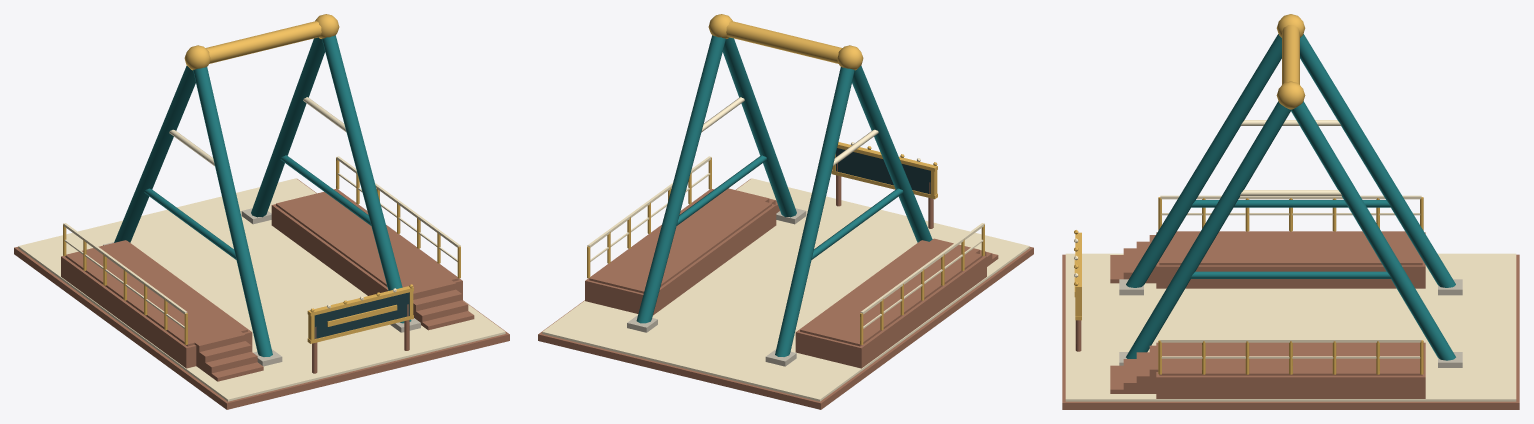
File: ride_pirate.glb
3 views of the same model, side by side, from view 1: azimuth 30°, elevation 25°; view 2: azimuth 150°, elevation 25°; view 3: azimuth 270°, elevation 25° (orthographic). The views are drawn at different scales.
Parts seen in each view (by area): view 1: ride_pirate; view 2: ride_pirate; view 3: ride_pirate.
Boxes of the visible parts, x1,y1,x2,y2 form: ride_pirate: [14, 14, 509, 409]; ride_pirate: [538, 14, 1033, 409]; ride_pirate: [1062, 14, 1519, 409].
Size of the model in its own units: 8.6 by 7.75 by 11.2.
